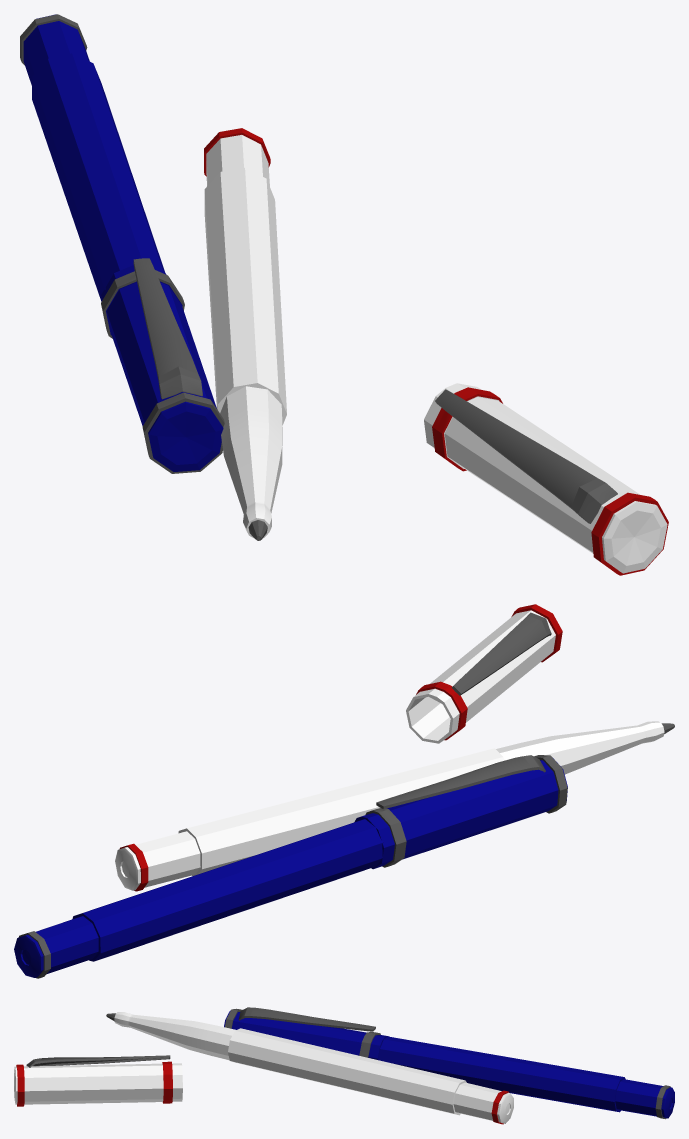
The model's file is Pens2.obj.
3 renders of one model, top to bottom at view 1: azimuth 30°, elevation 25°; view 2: azimuth 150°, elevation 25°; view 3: azimuth 270°, elevation 25°, orthographic. The views are drawn at different scales.
Parts seen in each view (by area): view 1: pen1.001_Mesh.002, tap_Mesh.003, pen:pen1_Mesh, pen:tap_Mesh.001; view 2: pen:pen1_Mesh, pen1.001_Mesh.002, pen:tap_Mesh.001, tap_Mesh.003; view 3: pen1.001_Mesh.002, pen:pen1_Mesh, tap_Mesh.003, pen:tap_Mesh.001.
Boxes of the visible parts, <box> form: pen1.001_Mesh.002: <box>204,128,286,540</box>; tap_Mesh.003: <box>424,383,668,575</box>; pen:pen1_Mesh: <box>20,14,164,301</box>; pen:tap_Mesh.001: <box>101,258,224,473</box>; pen:pen1_Mesh: <box>14,819,383,978</box>; pen1.001_Mesh.002: <box>115,721,674,891</box>; pen:tap_Mesh.001: <box>354,755,567,869</box>; tap_Mesh.003: <box>406,604,562,743</box>; pen1.001_Mesh.002: <box>106,1012,513,1124</box>; pen:pen1_Mesh: <box>378,1036,674,1119</box>; tap_Mesh.003: <box>14,1055,182,1106</box>; pen:tap_Mesh.001: <box>224,1007,388,1059</box>.
Bounding box in the file's own units: 3.96 × 0.8227 × 11.23.
